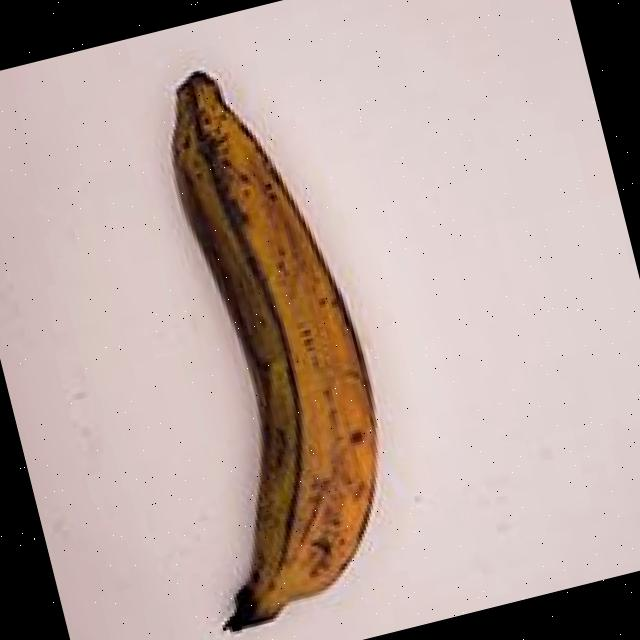Overripe: (67, 15, 474, 640)
